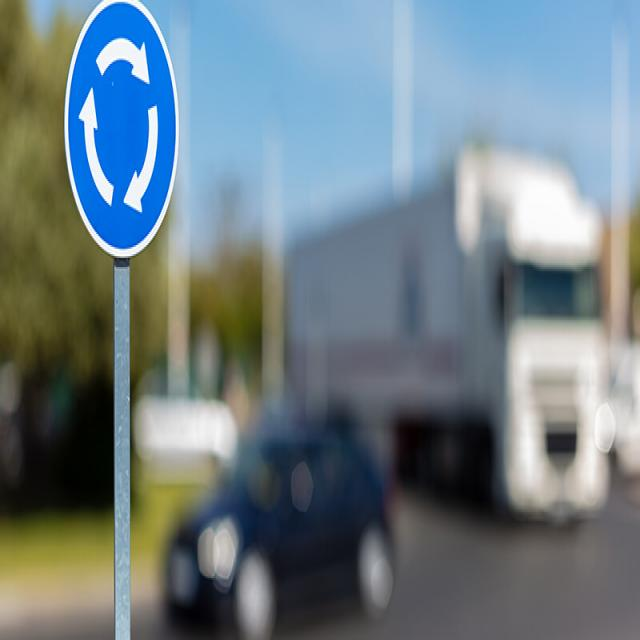roundabout: (62, 0, 179, 261)
